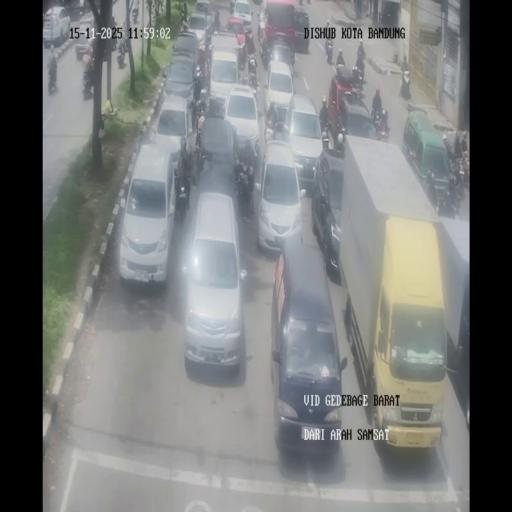3: (336, 141, 456, 449), (446, 269, 470, 439), (380, 0, 401, 27)
car: (270, 239, 344, 454), (182, 192, 248, 374), (120, 143, 180, 284), (281, 94, 324, 189), (314, 147, 344, 278), (222, 84, 261, 164), (75, 10, 118, 61), (336, 92, 377, 145), (164, 55, 198, 110), (210, 30, 242, 77), (42, 5, 71, 47), (266, 40, 294, 80), (186, 12, 211, 48), (293, 7, 311, 52), (232, 0, 252, 29)
truck: (235, 163, 255, 215), (173, 170, 190, 221), (436, 179, 458, 217), (452, 148, 468, 192), (424, 171, 439, 213), (192, 62, 205, 103), (196, 110, 207, 156), (81, 64, 93, 100), (264, 112, 276, 144), (375, 116, 390, 141), (399, 70, 411, 100), (260, 38, 270, 71), (237, 39, 247, 71), (48, 61, 58, 93), (247, 72, 259, 98), (204, 55, 212, 91), (245, 28, 255, 56), (84, 40, 95, 65), (320, 124, 330, 150), (116, 42, 126, 68), (336, 127, 346, 153), (248, 51, 258, 76), (355, 60, 365, 83), (180, 12, 190, 32), (291, 52, 299, 76), (258, 2, 267, 23), (356, 46, 367, 63), (145, 0, 153, 22), (326, 43, 333, 65), (213, 10, 220, 31), (131, 4, 139, 22), (361, 0, 369, 18), (240, 74, 250, 86), (402, 55, 408, 72), (229, 0, 236, 14), (378, 10, 382, 24)
